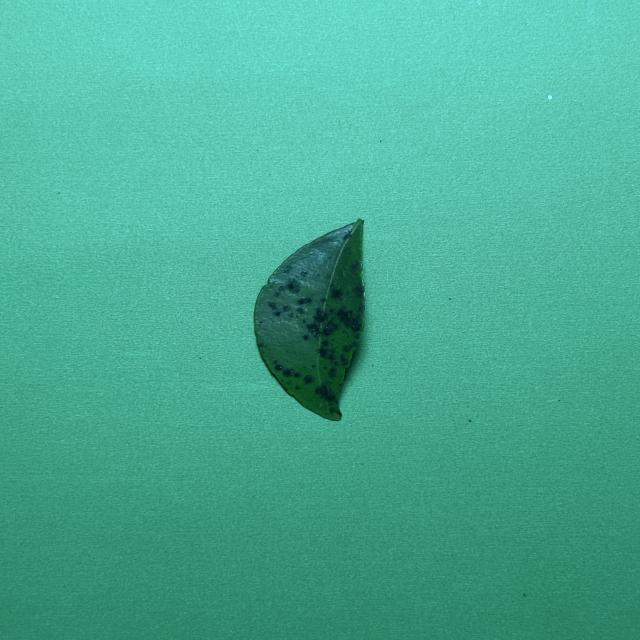sooty_mold: (254, 220, 365, 420)
